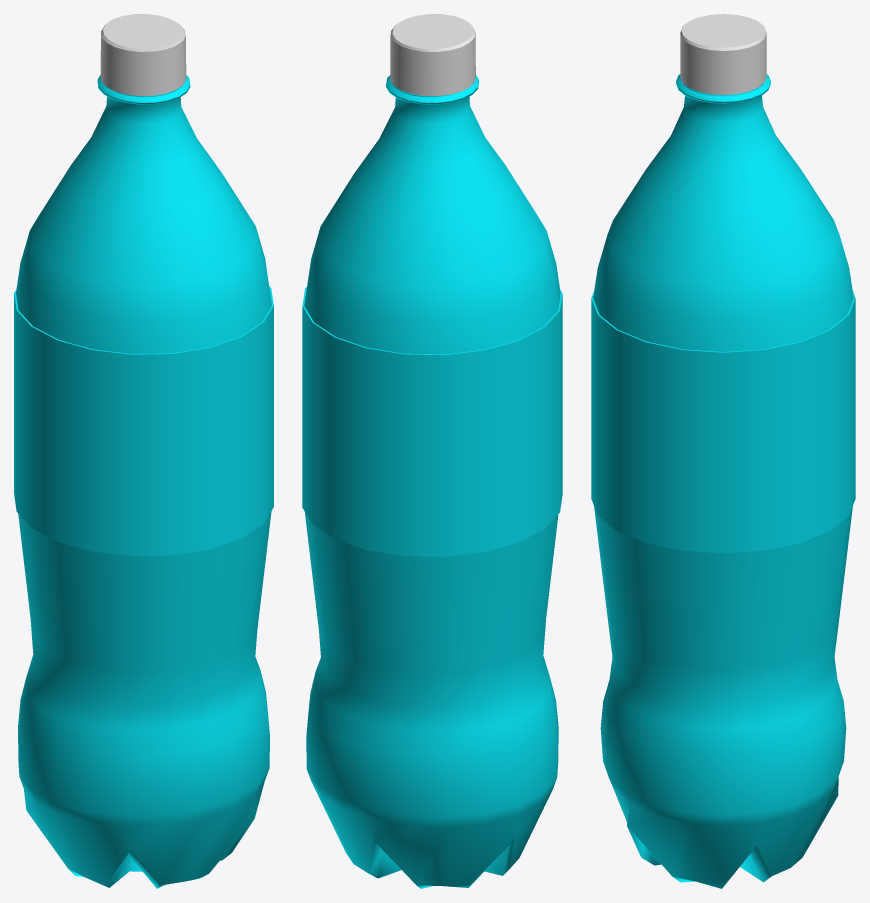
File: Water_Bottle.fbx
3 renders of one model, left to right at view 1: azimuth 30°, elevation 25°; view 2: azimuth 150°, elevation 25°; view 3: azimuth 270°, elevation 25°, orthographic.
Visible parts, largest first — view 1: polySurface1, polySurface2; view 2: polySurface1, polySurface2; view 3: polySurface1, polySurface2.
Boxes of the visible parts, left/top/right/bottom form: polySurface1: left=14, top=75, right=273, bottom=888; polySurface2: left=100, top=14, right=186, bottom=95; polySurface1: left=302, top=75, right=562, bottom=888; polySurface2: left=390, top=14, right=475, bottom=96; polySurface1: left=591, top=74, right=855, bottom=888; polySurface2: left=680, top=14, right=766, bottom=94.
Bounding box in the file's own units: 2.07 × 7.27 × 2.11.
